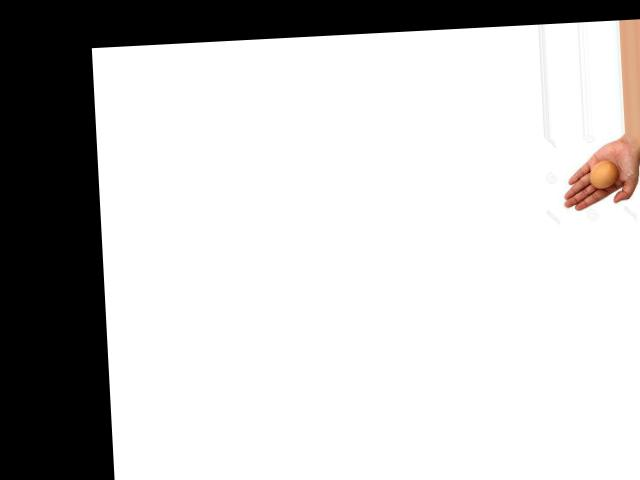egg: (589, 159, 619, 188)
